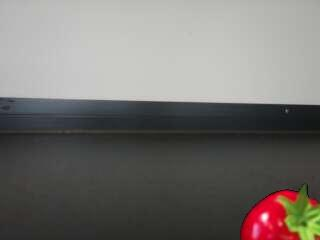Tomato: (238, 184, 320, 240)
